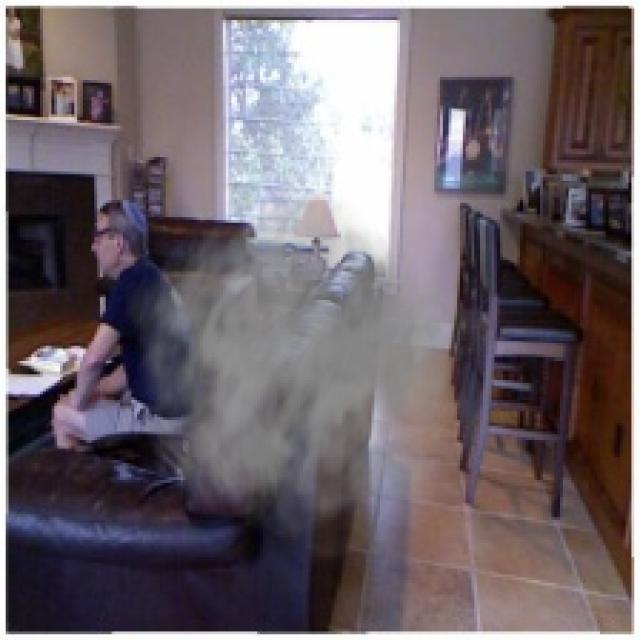Smoke: (126, 194, 492, 566)
